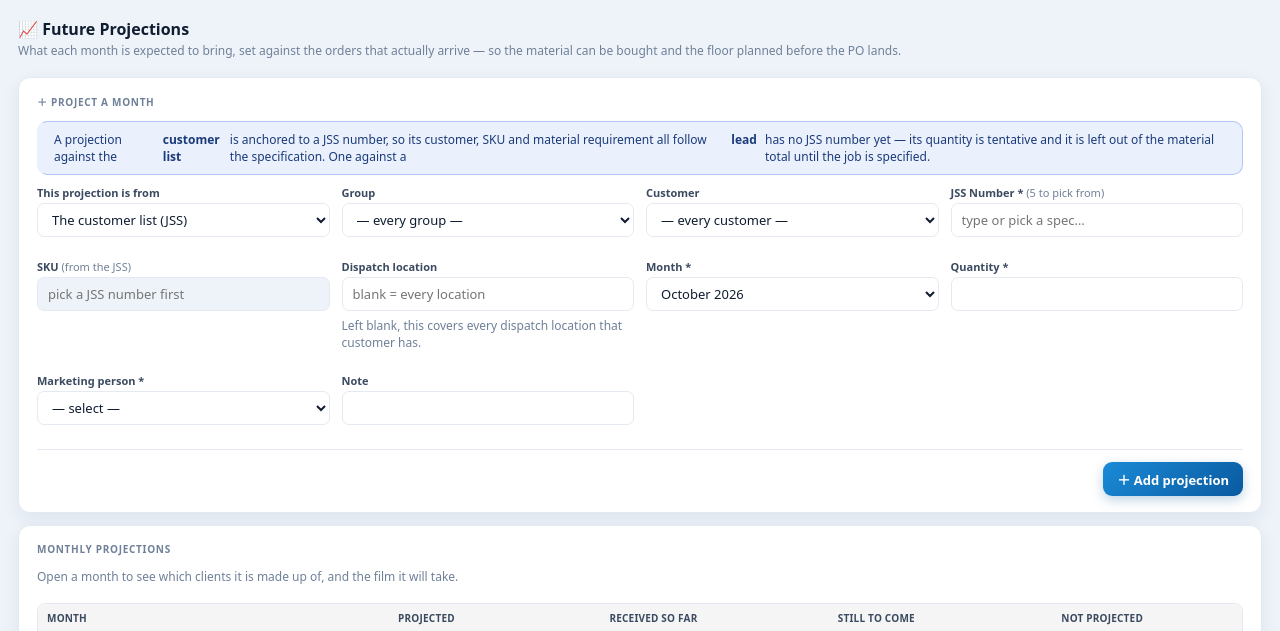
it: Projections — entering one › fills the customer and SKU from the JSS number
Type "A1" into the field named "JSS number". click: [1097, 220]
box: [950,203,1243,237]
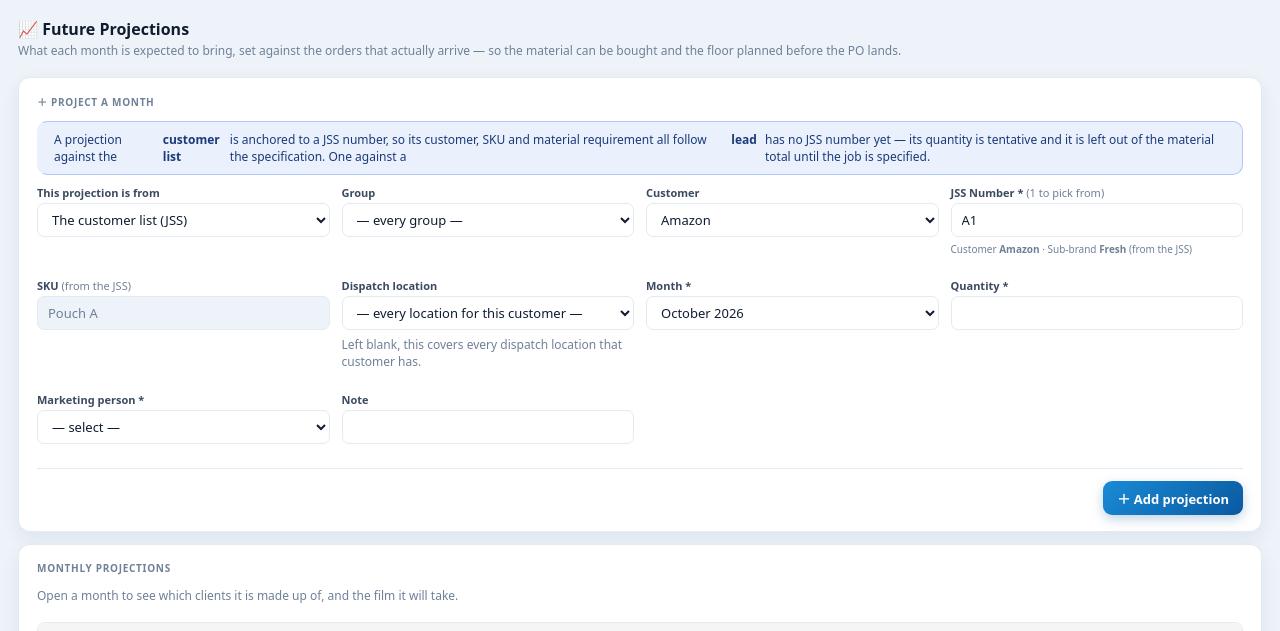
Check: the dropdown named "Customer" shows "Amazon", box [646,203,938,237]
Check: the field named "SKU" holds "Pouch A", box [37,296,330,330]
